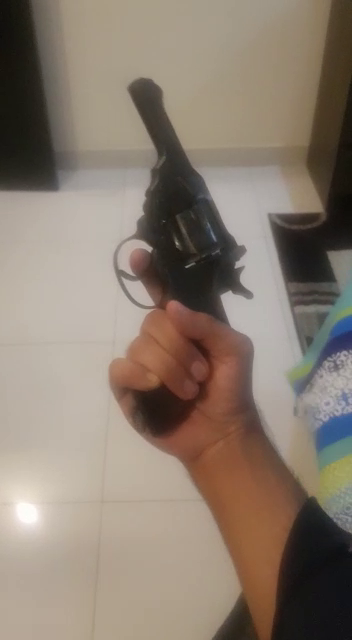handgun: (52, 51, 319, 620)
